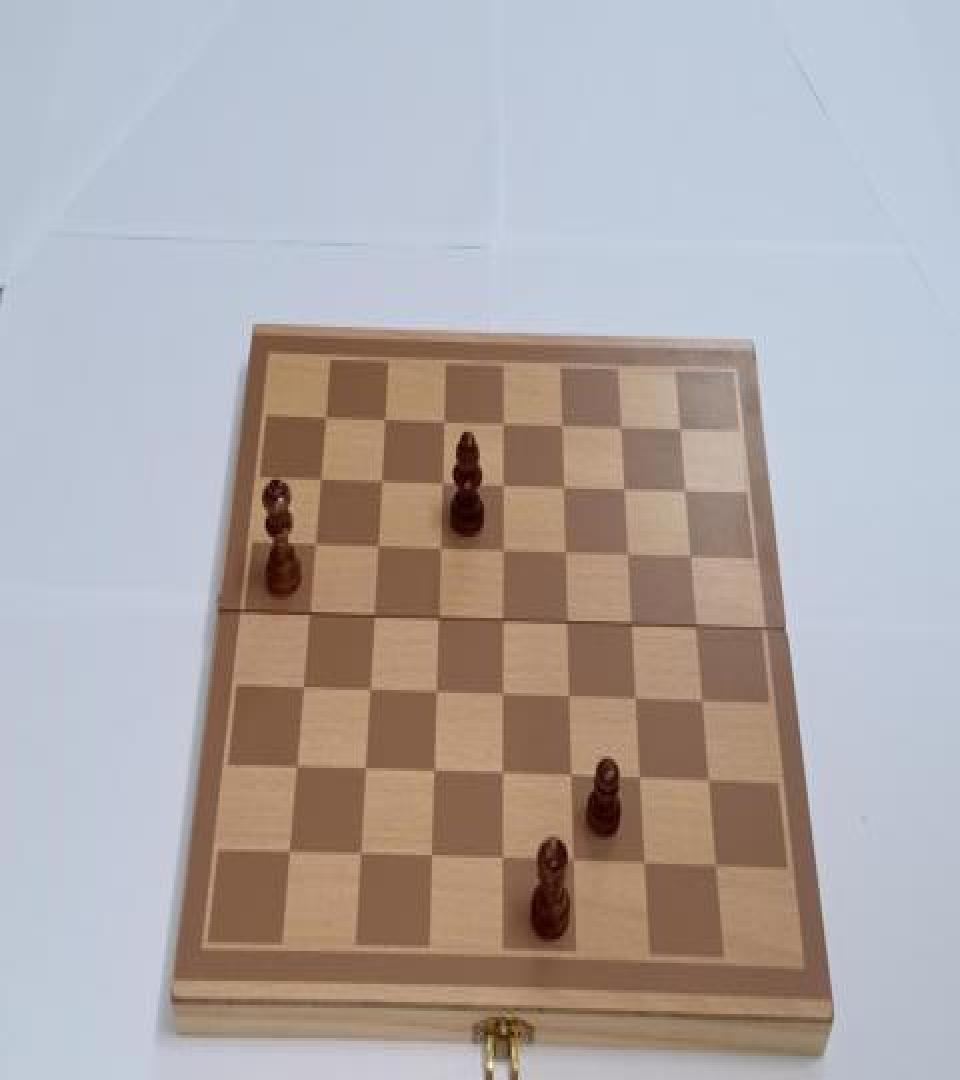xcorner: (371, 466, 389, 494), (426, 760, 444, 788), (494, 406, 512, 434), (556, 472, 574, 500), (673, 412, 691, 440), (314, 402, 332, 429), (309, 465, 327, 492), (304, 531, 322, 558), (293, 676, 311, 703), (287, 756, 305, 783), (374, 404, 392, 431), (368, 534, 386, 561), (364, 604, 382, 631), (357, 759, 375, 786), (352, 843, 370, 870), (434, 405, 452, 432), (433, 468, 451, 495), (429, 606, 447, 633), (428, 681, 446, 708), (424, 844, 442, 871), (494, 470, 512, 497), (494, 537, 512, 564), (495, 683, 513, 710), (495, 762, 513, 789), (495, 846, 513, 873), (554, 408, 572, 435), (558, 538, 576, 565), (560, 609, 578, 636), (562, 684, 580, 711), (566, 849, 584, 876), (614, 411, 632, 438), (617, 474, 635, 501), (621, 540, 639, 567), (625, 612, 643, 639), (629, 687, 647, 714), (633, 766, 651, 793), (638, 851, 656, 878), (684, 543, 702, 570), (695, 689, 713, 716), (702, 768, 720, 795), (709, 852, 727, 879), (299, 602, 317, 628), (281, 842, 299, 868), (360, 680, 378, 706), (431, 536, 449, 562), (495, 608, 513, 634), (564, 764, 582, 790), (678, 476, 696, 502), (689, 614, 707, 640)
